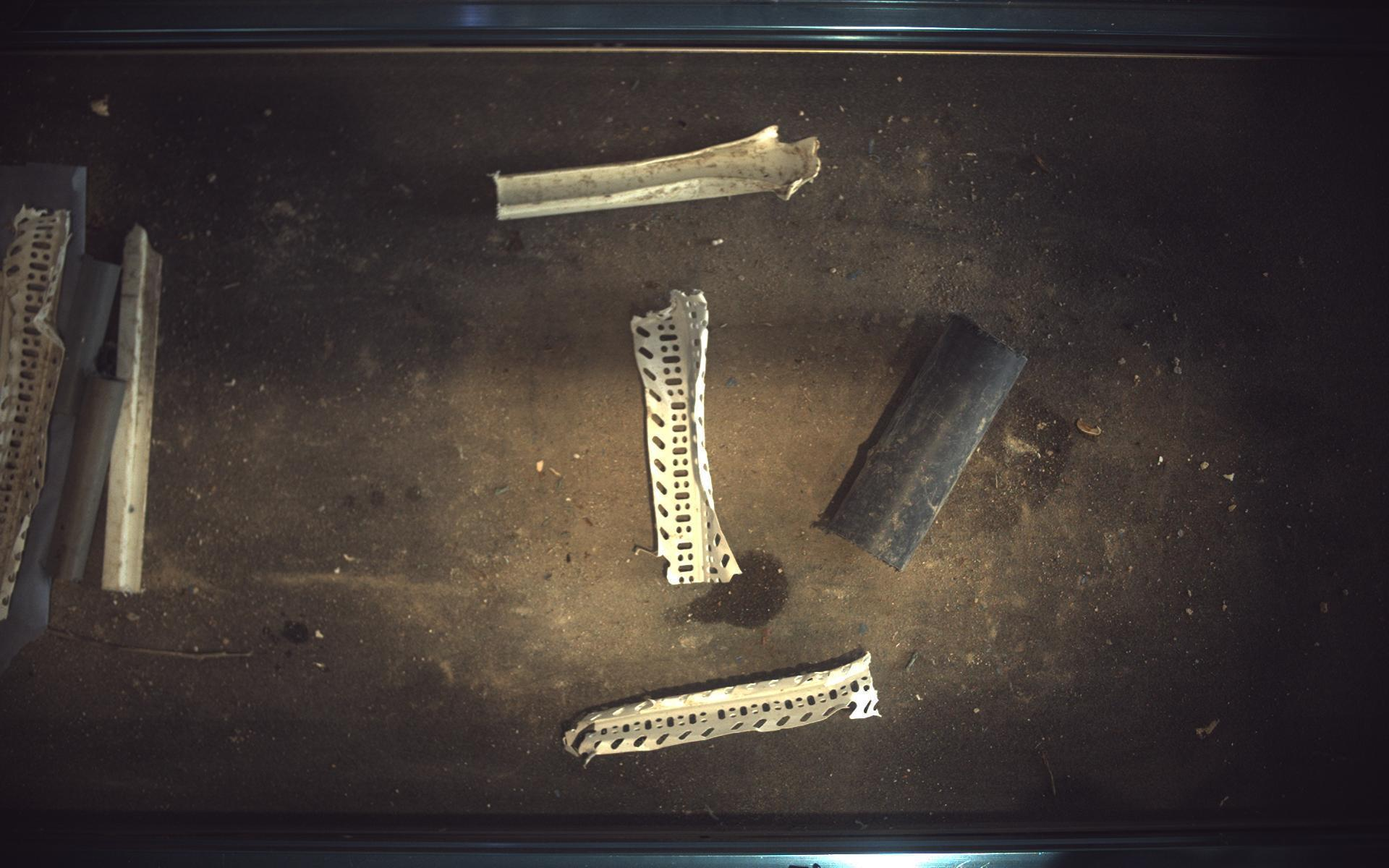pipes: (831, 315, 1029, 571), (48, 374, 124, 582), (51, 255, 120, 417)
plastic: (564, 654, 881, 764), (632, 289, 742, 585), (493, 124, 822, 220), (1, 208, 69, 621), (101, 224, 161, 594)
